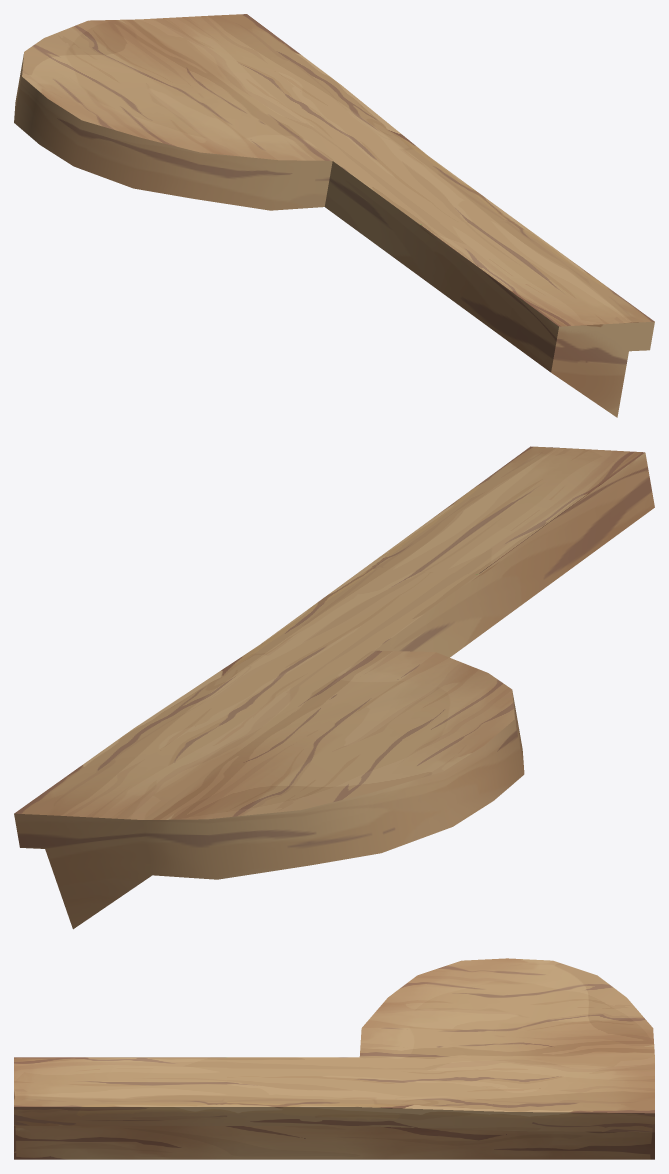
The model's file is BiddingTable.fbx.
3 views of the same model, one above another, from view 1: azimuth 30°, elevation 25°; view 2: azimuth 150°, elevation 25°; view 3: azimuth 270°, elevation 25° (orthographic). The views are drawn at different scales.
Parts seen in each view (by area): view 1: BiddingTable; view 2: BiddingTable; view 3: BiddingTable.
Boxes of the visible parts, x1,y1,x2,y2 form: BiddingTable: (14,14,654,417); BiddingTable: (14,446,654,929); BiddingTable: (14,958,654,1159).
Bounding box in the file's own units: 88.77 × 39.9 × 212.
